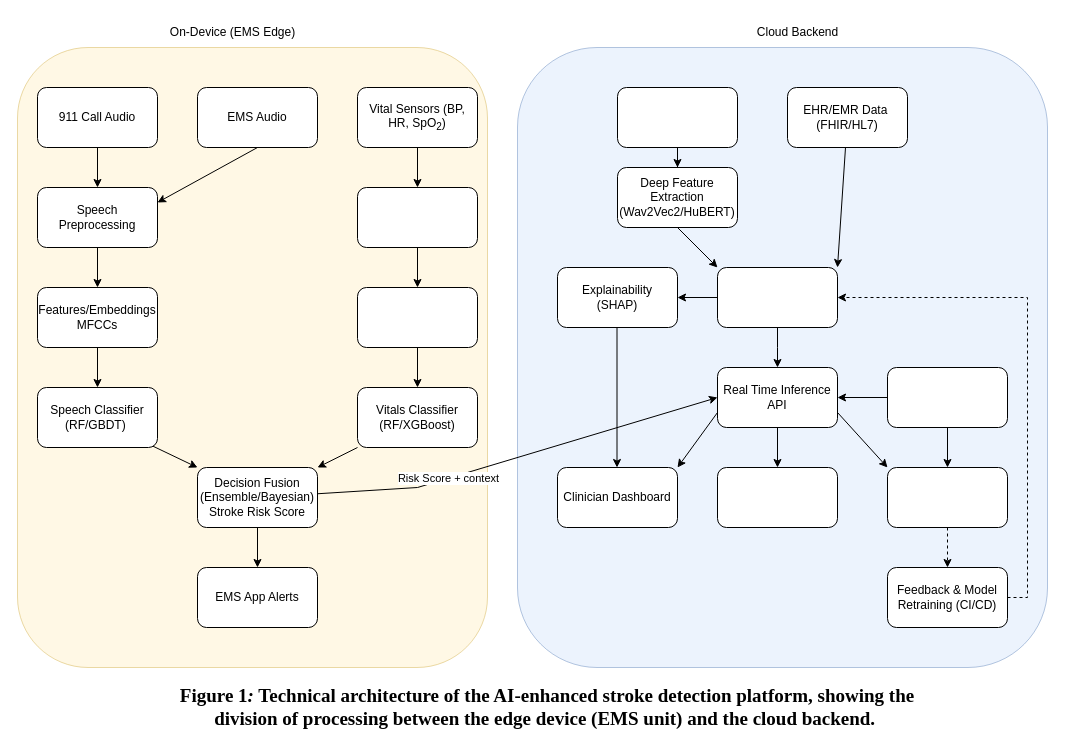
This 1065x754 diagram has some shape labels left out. Each missing label, with the box of its shape:
Advanced Models (DNNs, Fine-tuned): (716, 266, 838, 328)
Audio Stream: (616, 86, 738, 148)
Hospital Notifications: (716, 466, 838, 528)
Secure Data Lake: (886, 466, 1008, 528)
Security and Compliance (HIPAA): (886, 366, 1008, 428)
Temporal Features: (356, 286, 478, 348)
Vitals Preprocessing: (356, 186, 478, 248)
